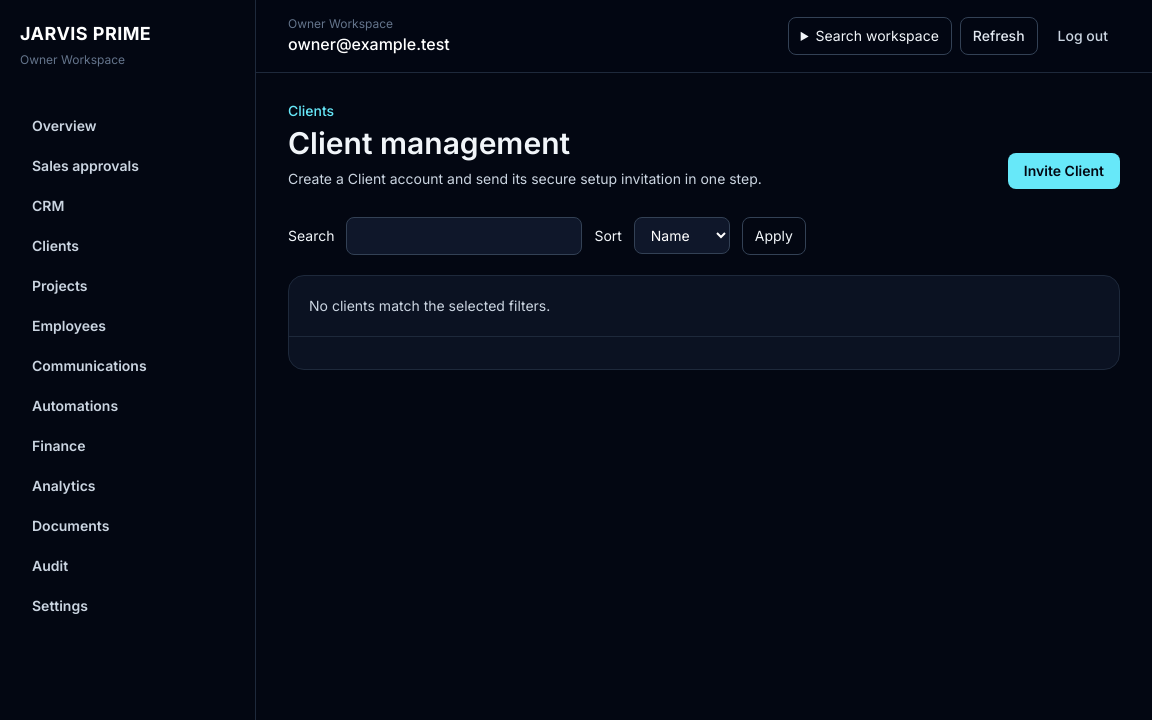
Test case: invites a Client in one submit, sends only approved fields, refreshes the list, and highlights its generated Client ID
Click the button "Invite Client" at coordinates (1064, 171), box [1008,153,1120,189]
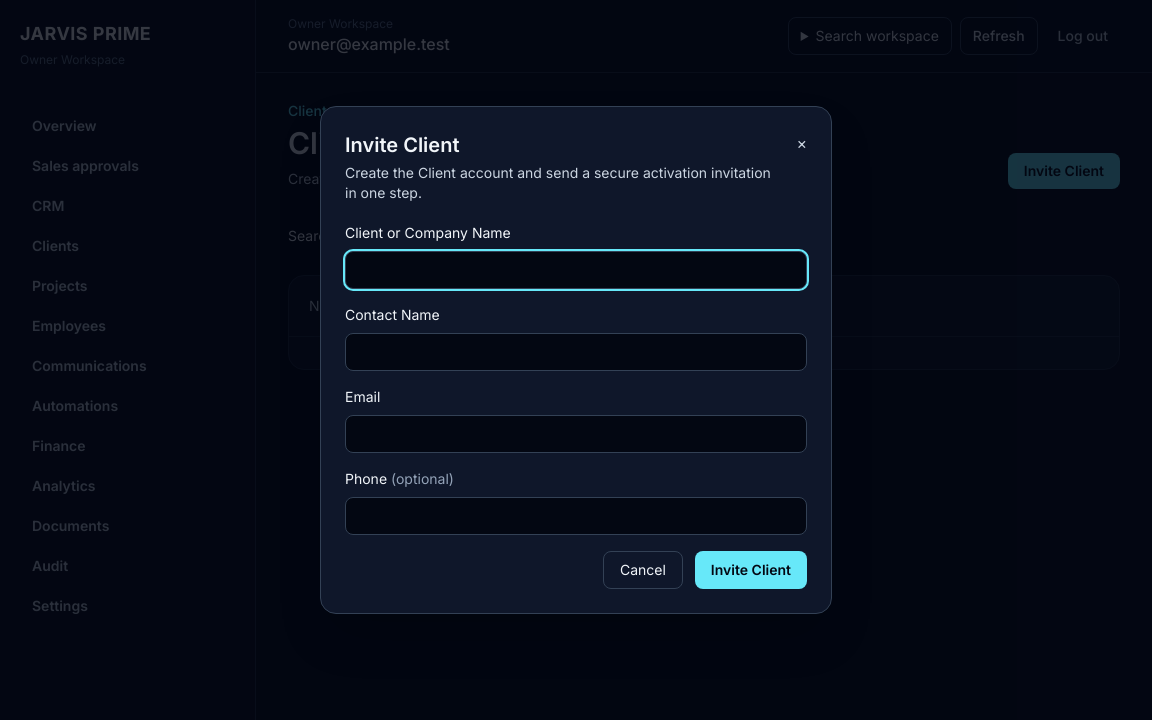
Type "New Acme" into the field labelled "Client or Company Name" at coordinates (576, 270), box [345,251,807,289]
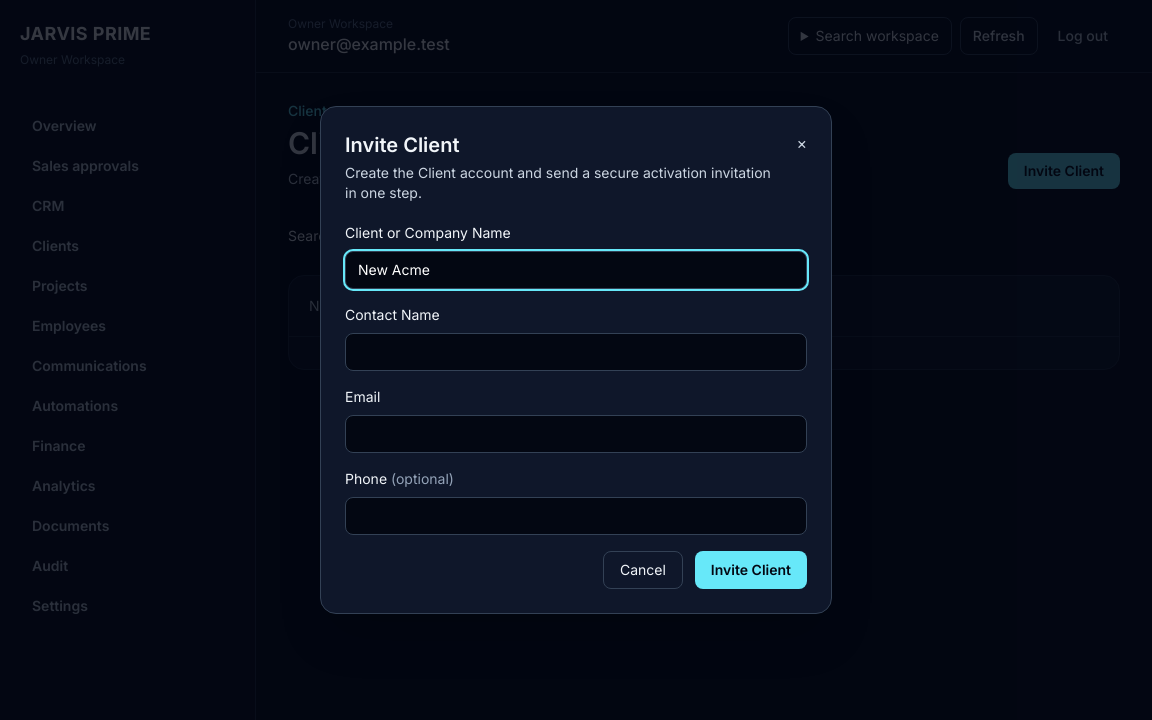
Type "Ava Client" into the field labelled "Contact Name" at coordinates (576, 352), box [345,333,807,371]
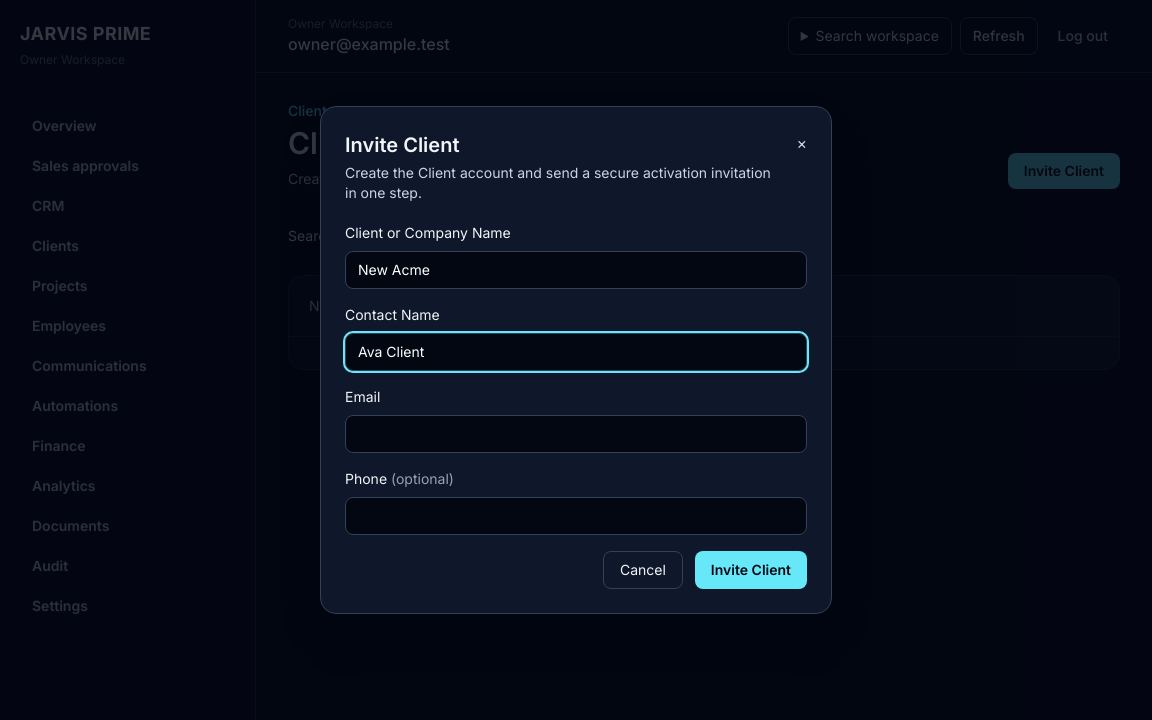
Type "hello@acme.test" into the field labelled "Email" at coordinates (576, 434), box [345,415,807,453]
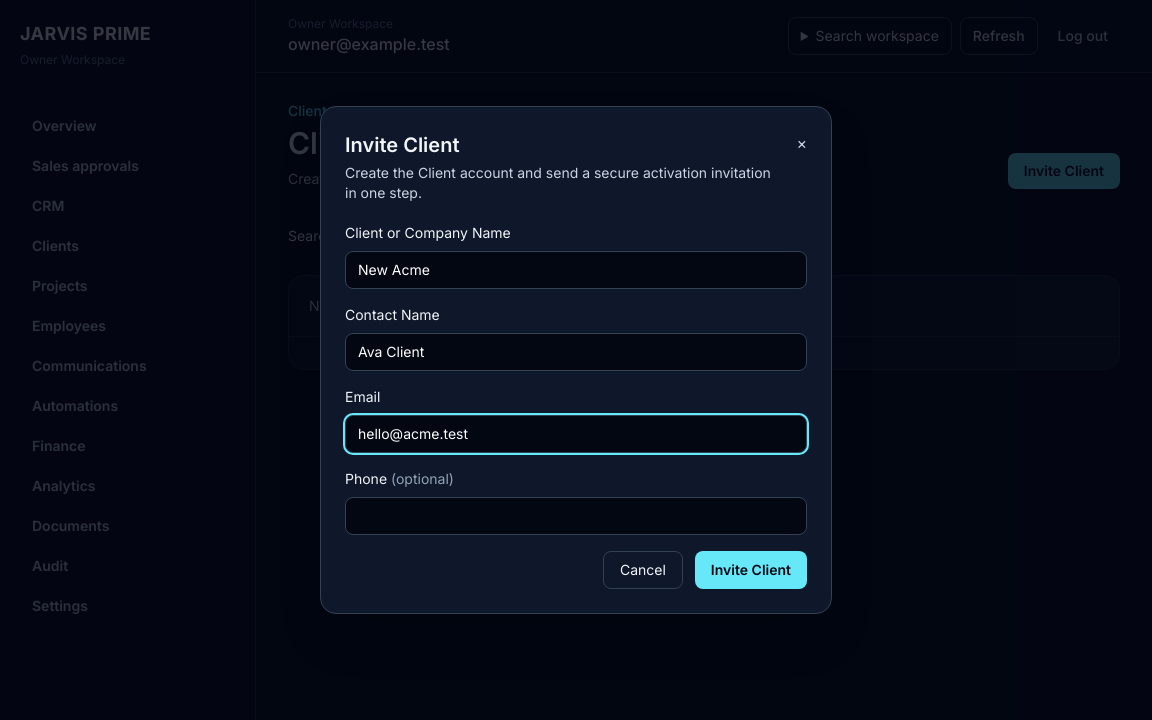
Type "+919876543210" into the field labelled "Phone" at coordinates (576, 516), box [345,497,807,535]
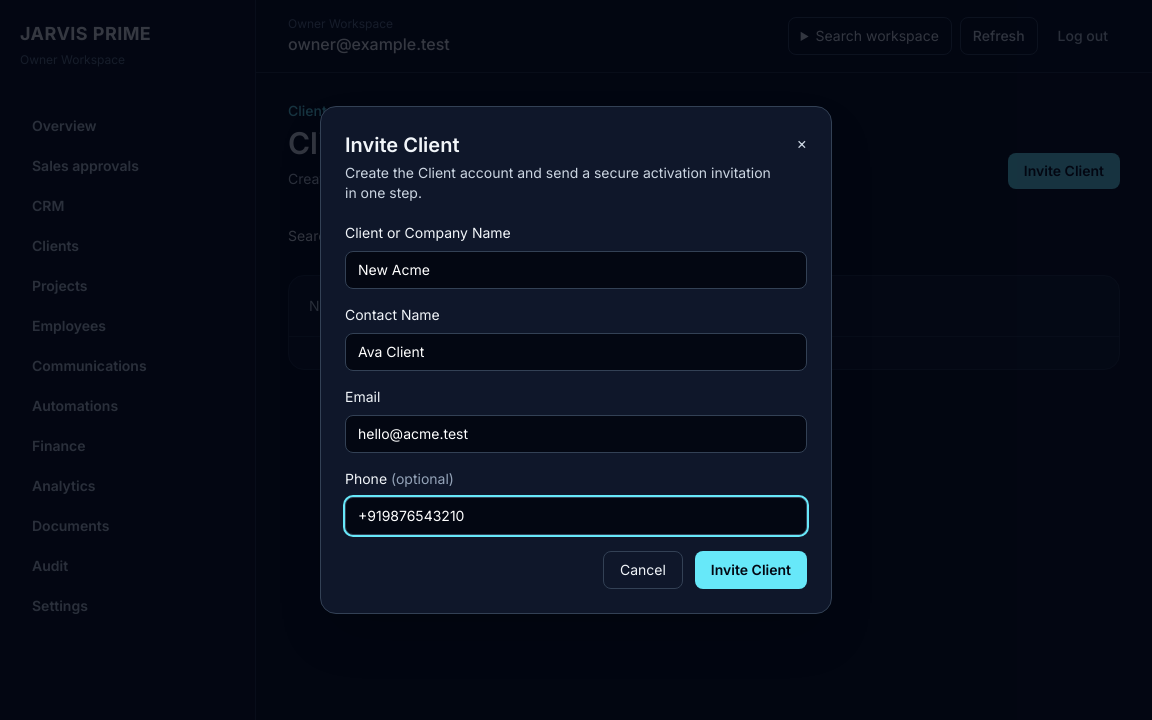
Click the button "Invite Client" at coordinates (751, 570), box [695,551,807,589]
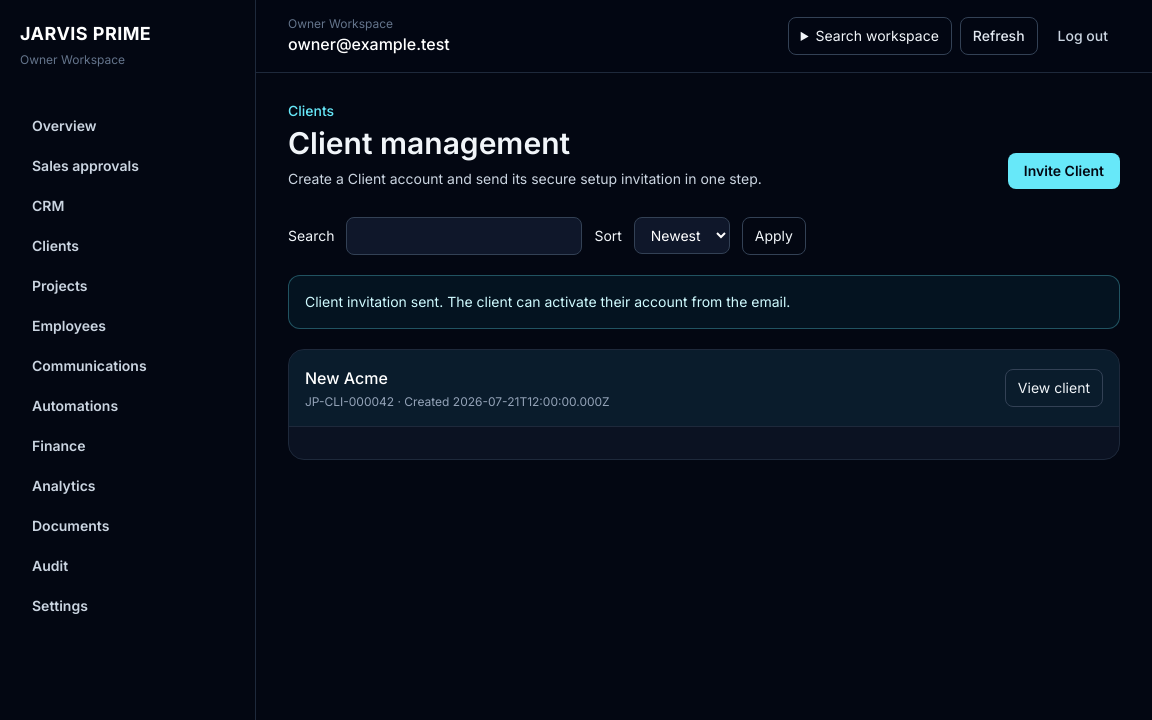
Expected: the message reads "Client invitation sent. The client can activate their account from the email.", [305,293,790,310]
Expected: the text "New Acme" is shown, [305,368,388,388]
